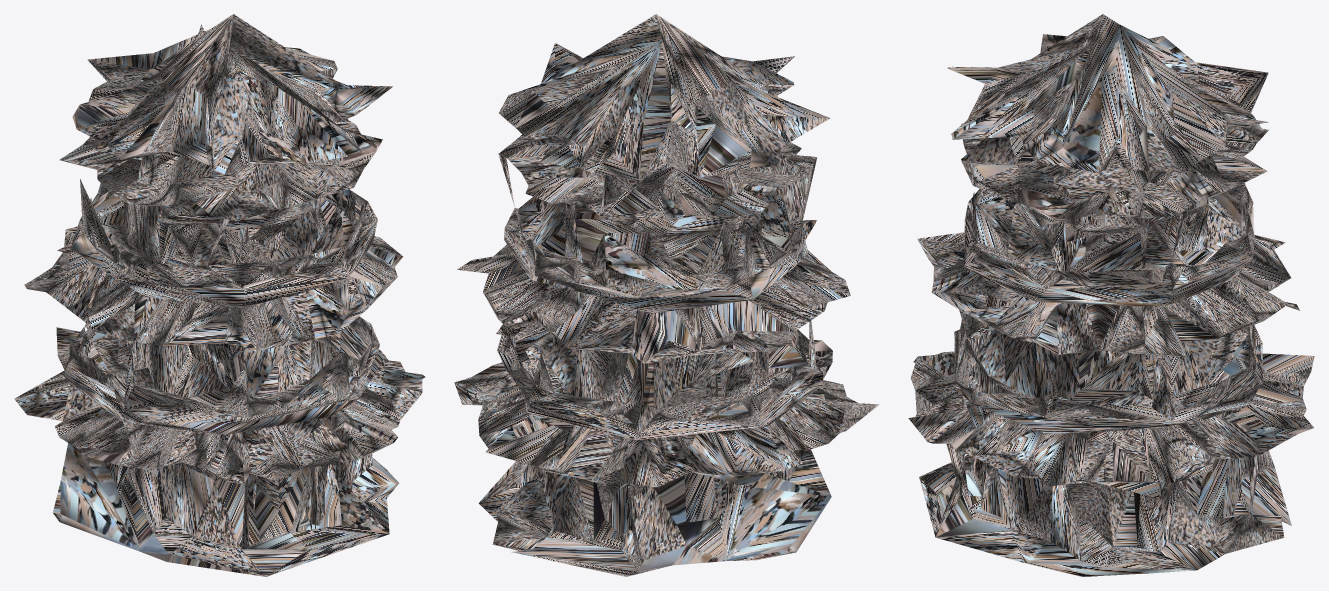
Rendered from lib_pagoda5.far.glb.
3 renders of one model, left to right at view 1: azimuth 30°, elevation 25°; view 2: azimuth 150°, elevation 25°; view 3: azimuth 270°, elevation 25°, orthographic.
Parts seen in each view (by area): view 1: output_unwrapped; view 2: output_unwrapped; view 3: output_unwrapped.
Boxes of the visible parts, box(x1,y1,x2,y2) form: output_unwrapped: box(14, 14, 425, 576); output_unwrapped: box(454, 14, 879, 576); output_unwrapped: box(908, 14, 1314, 576).
Bounding box in the file's own units: 1.28 × 1.7 × 1.27.
1 material, 1 textured.
